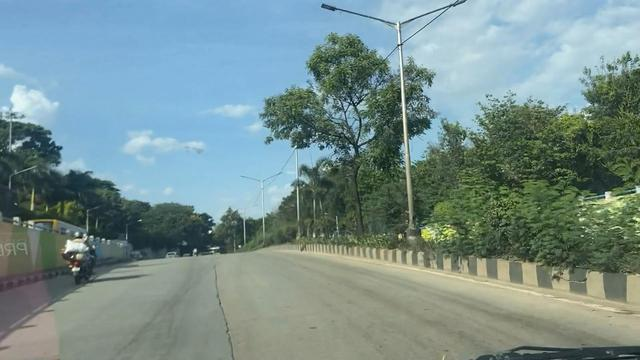LMV: (64, 230, 97, 282)
RoadDamages: (205, 259, 237, 360)
